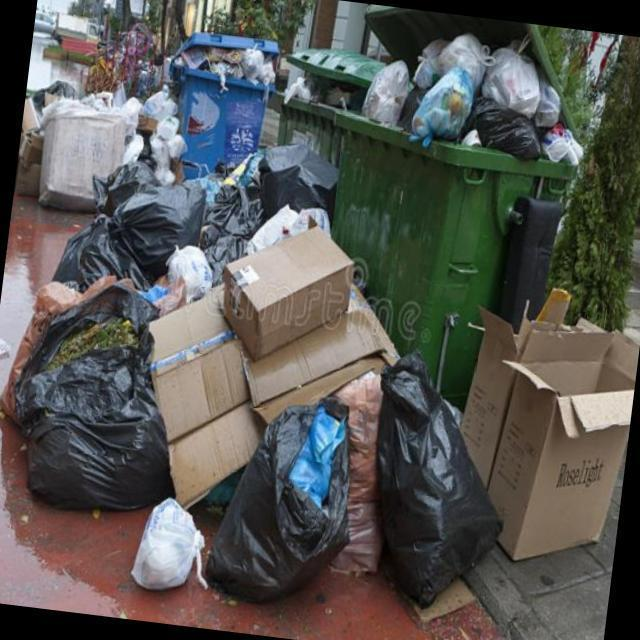garbage: (0, 138, 557, 636), (12, 18, 255, 235), (347, 12, 612, 180)
